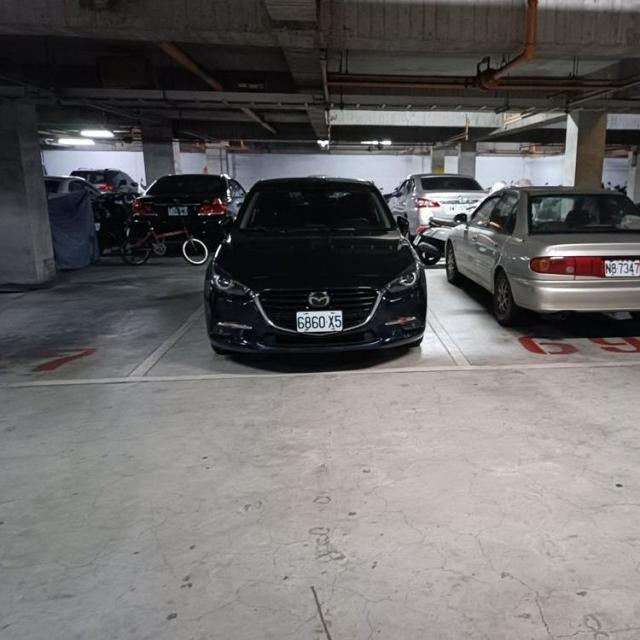W: (292, 304, 346, 334), (598, 251, 640, 281), (446, 201, 470, 214)
